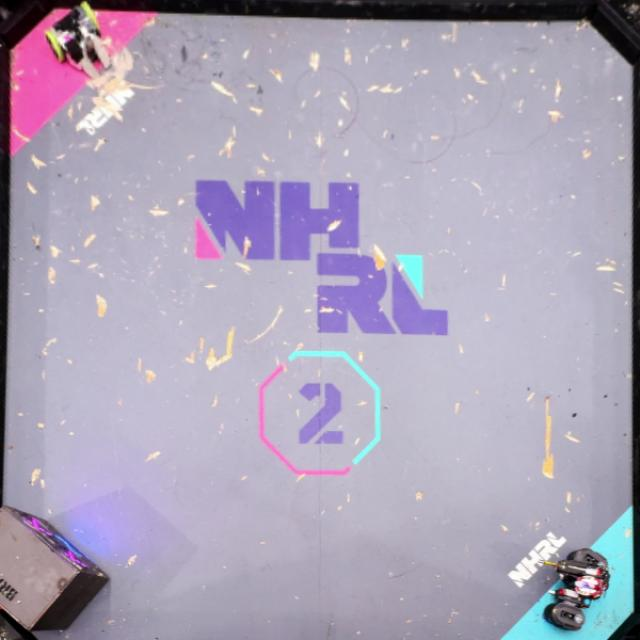housebot: (0, 506, 111, 633)
robot: (541, 547, 610, 628), (42, 1, 111, 80)
